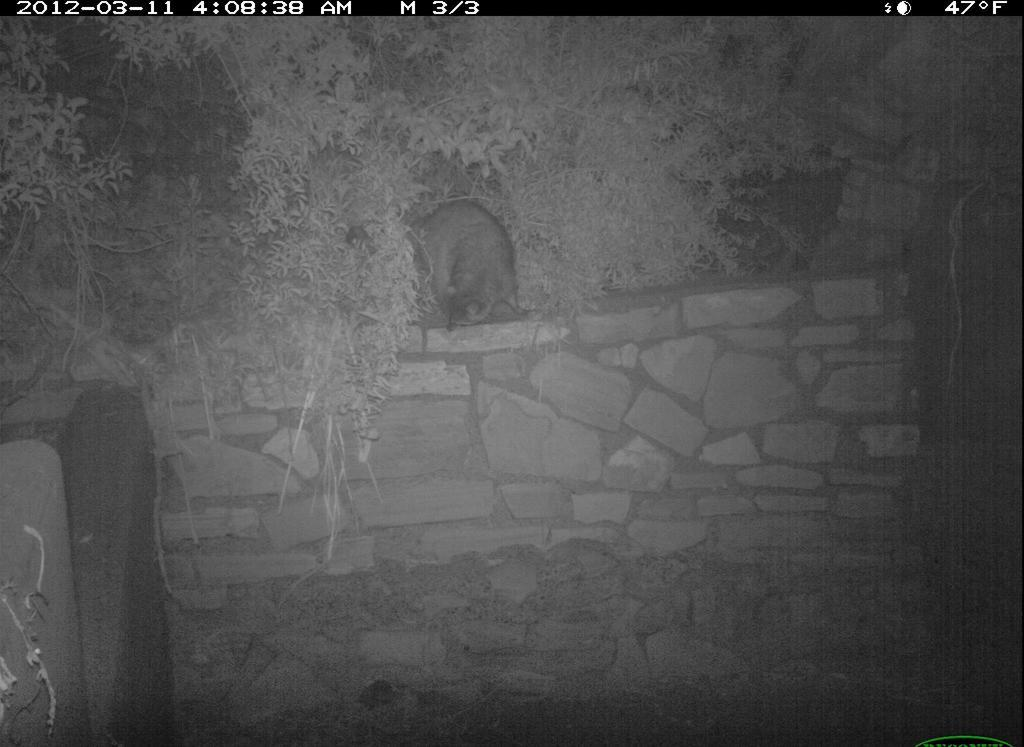raccoon: (396, 189, 541, 333)
